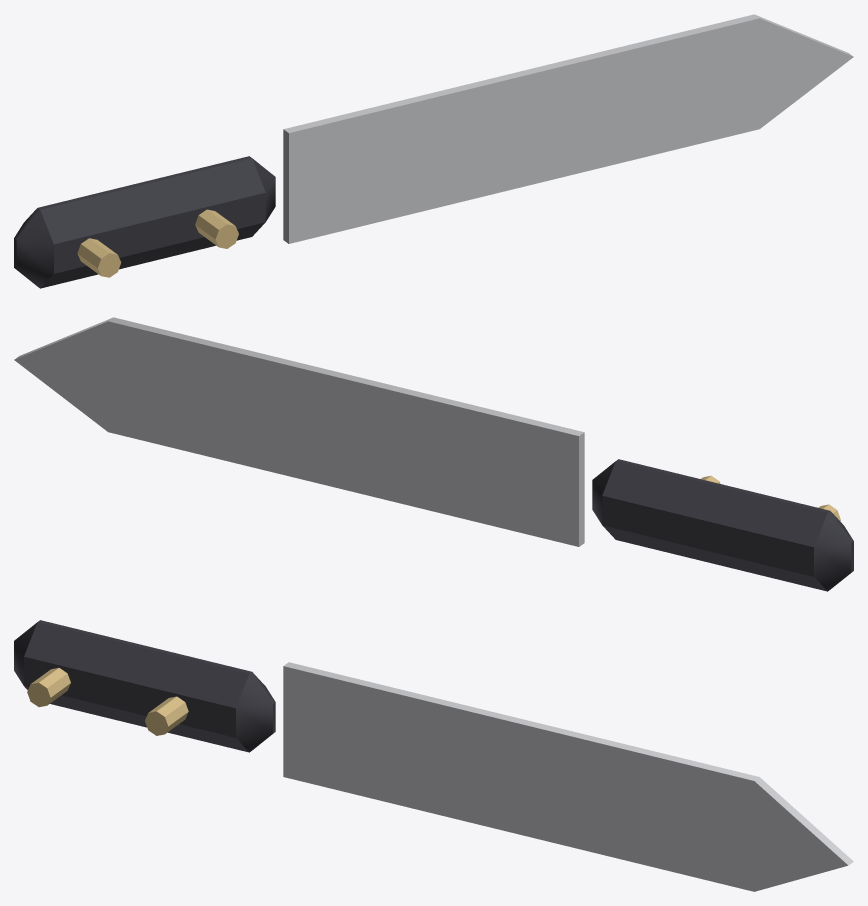
Rendered from kr_knife.glb.
3 renders of one model, top to bottom at view 1: azimuth 30°, elevation 25°; view 2: azimuth 150°, elevation 25°; view 3: azimuth 330°, elevation 25°, orthographic.
Parts seen in each view (by area): view 1: vc_m8_r2, vc_m0_r4; view 2: vc_m8_r2, vc_m0_r4; view 3: vc_m8_r2, vc_m0_r4.
Boxes of the visible parts, <box> form: vc_m8_r2: <box>77,14,853,277</box>; vc_m0_r4: <box>14,156,275,288</box>; vc_m8_r2: <box>14,317,840,546</box>; vc_m0_r4: <box>592,459,853,591</box>; vc_m8_r2: <box>27,662,853,891</box>; vc_m0_r4: <box>14,620,275,752</box>.
Bounding box in the file's own units: 0.355 × 0.045 × 0.037.
